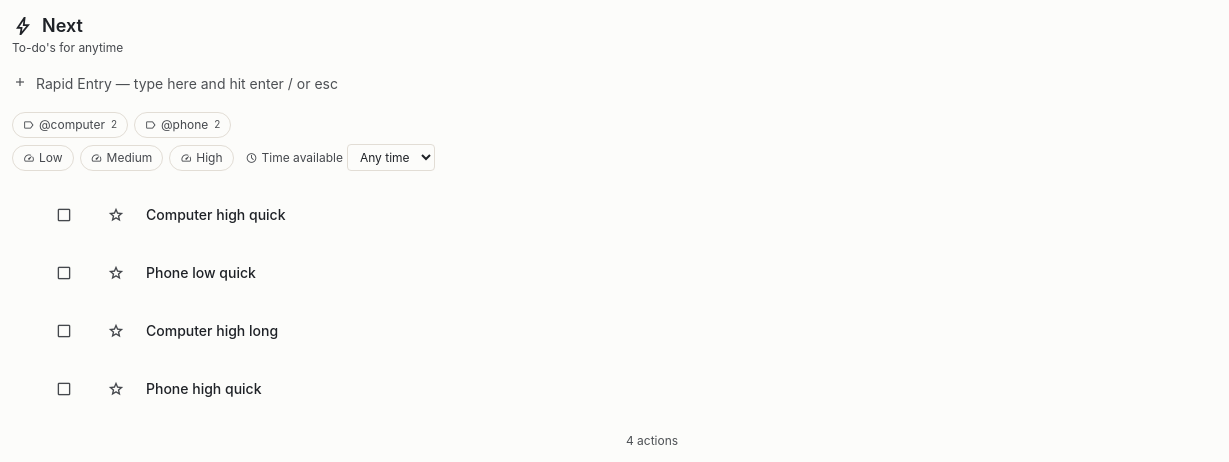
Test: ActionList › clearing context filters keeps energy and time filters active
Click the checkbox labelled "@phone 2" at (183,125), box x1=134 y1=112 x2=231 y2=138
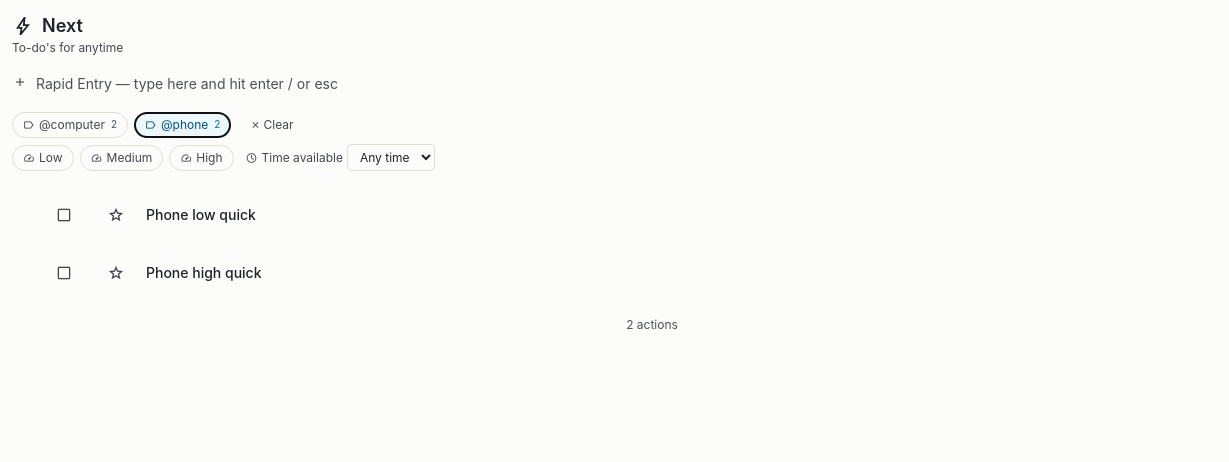
Click the radio button labelled "high" at (201,158), box x1=169 y1=144 x2=234 y2=170
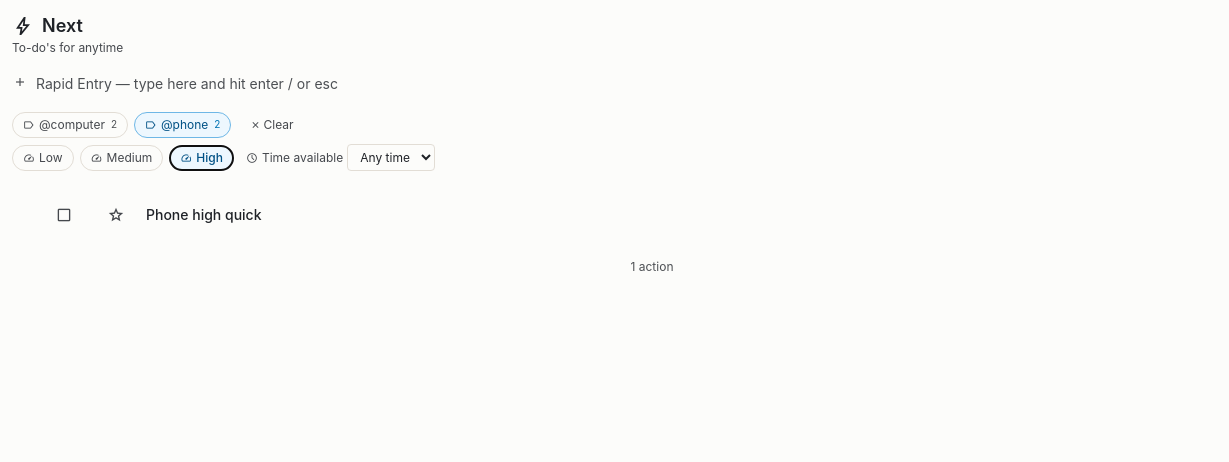
Select "30 min" in the dropdown labelled "Time available" at (391,158), box x1=347 y1=144 x2=435 y2=171
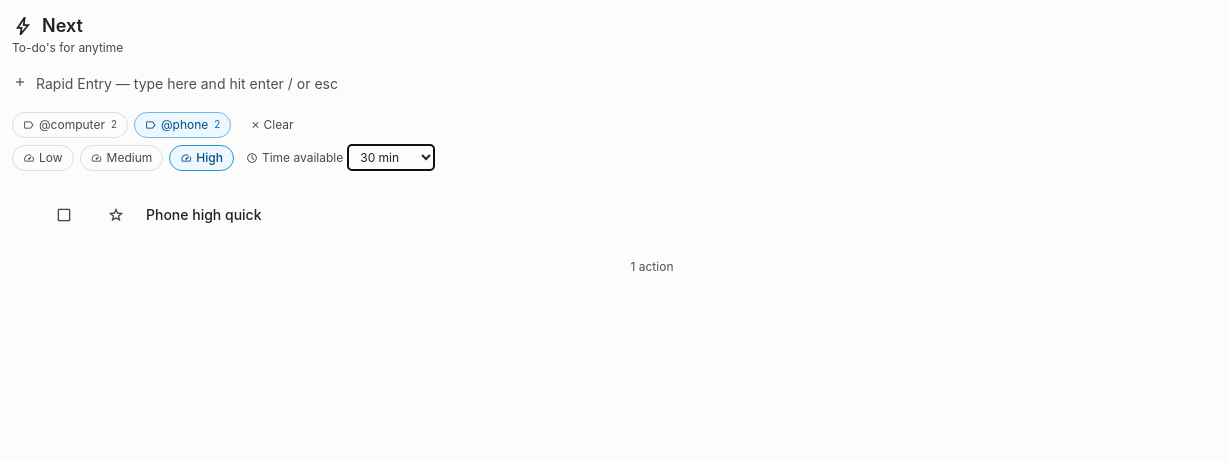
Check: the button "Phone high quick" is shown, box x1=146 y1=205 x2=1212 y2=225
Check: the button "Computer high quick" is not shown
Click the button with aria-label "Clear context filters" at (272,125), box x1=242 y1=113 x2=302 y2=137
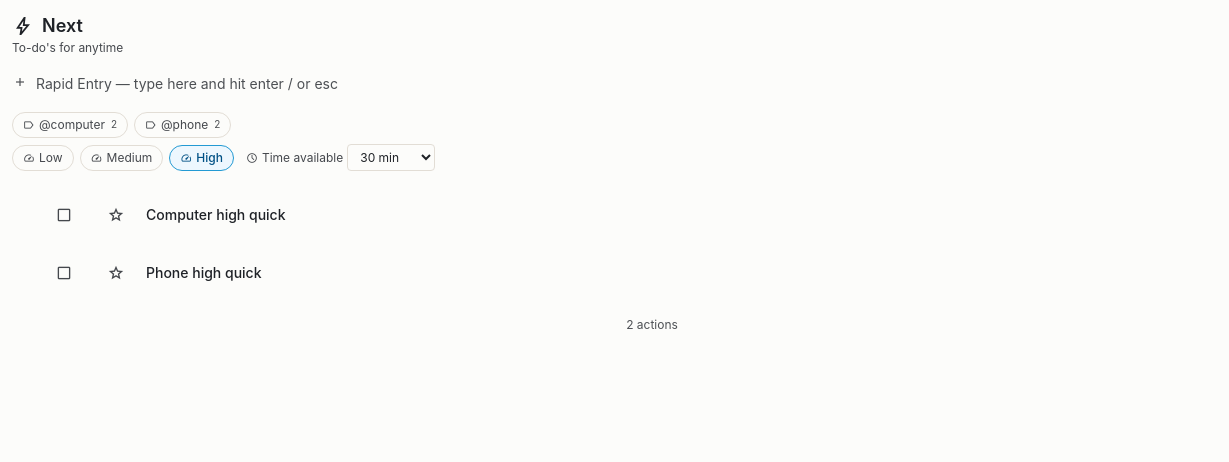
Check: the button "Phone high quick" is shown, box x1=146 y1=263 x2=1212 y2=283
Check: the button "Computer high quick" is shown, box x1=146 y1=205 x2=1212 y2=225
